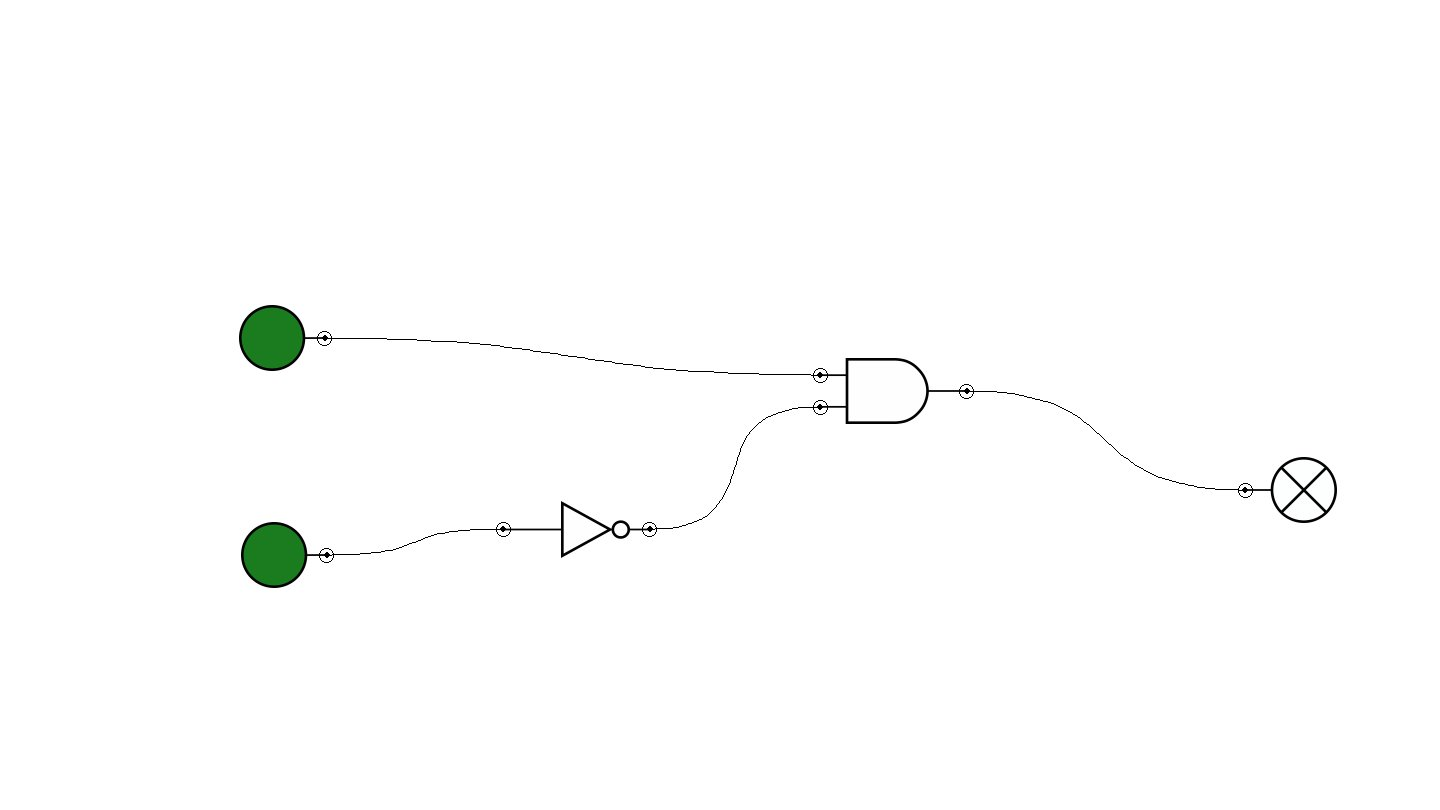and: (813, 358, 974, 424)
bulb: (1238, 457, 1337, 523)
not: (496, 501, 657, 558)
switch_True: (241, 522, 334, 588), (239, 305, 332, 371)
